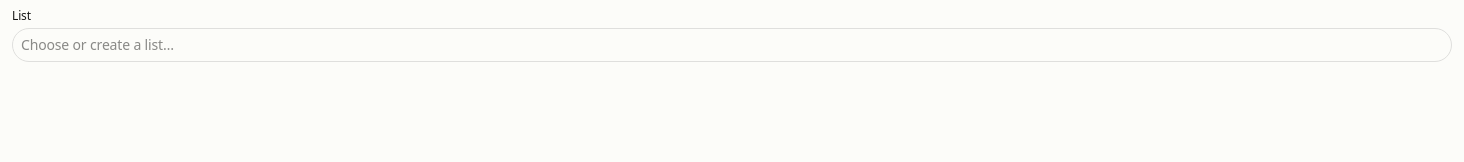
Test case: memberships and the one-control combobox › offers Create first when the text exactly matches no list, filtered as typed
Type "Por" into the dropdown with test id "add-list-choice".
click(732, 45); type("Por")  # box x1=12 y1=28 x2=1452 y2=62
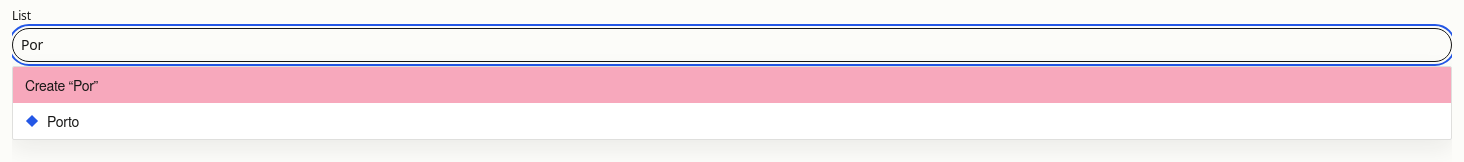
Now the option "Create “Por”" is shown, box x1=13 y1=67 x2=1451 y2=103
Now the number of options is 2, box x1=13 y1=67 x2=1451 y2=103; x1=13 y1=103 x2=1451 y2=139
